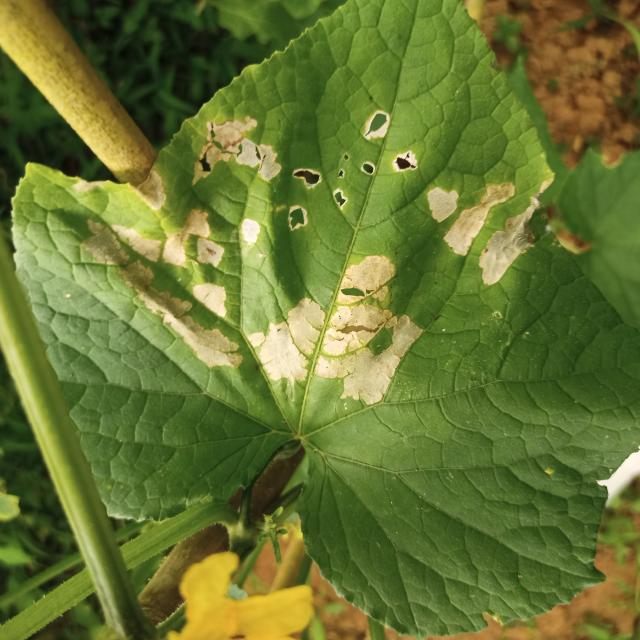disease_cucumber: (86, 112, 550, 405)
